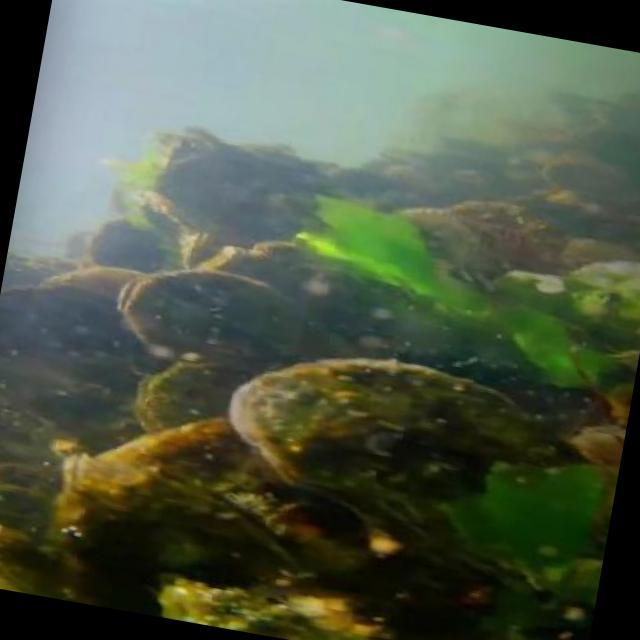Oyster- Indeterminate: (238, 346, 622, 532), (47, 422, 291, 590), (137, 120, 296, 234), (0, 369, 68, 612), (123, 262, 321, 345), (0, 276, 174, 366), (365, 205, 492, 296), (0, 359, 120, 422), (126, 359, 253, 416), (33, 253, 162, 302), (77, 216, 178, 272)
